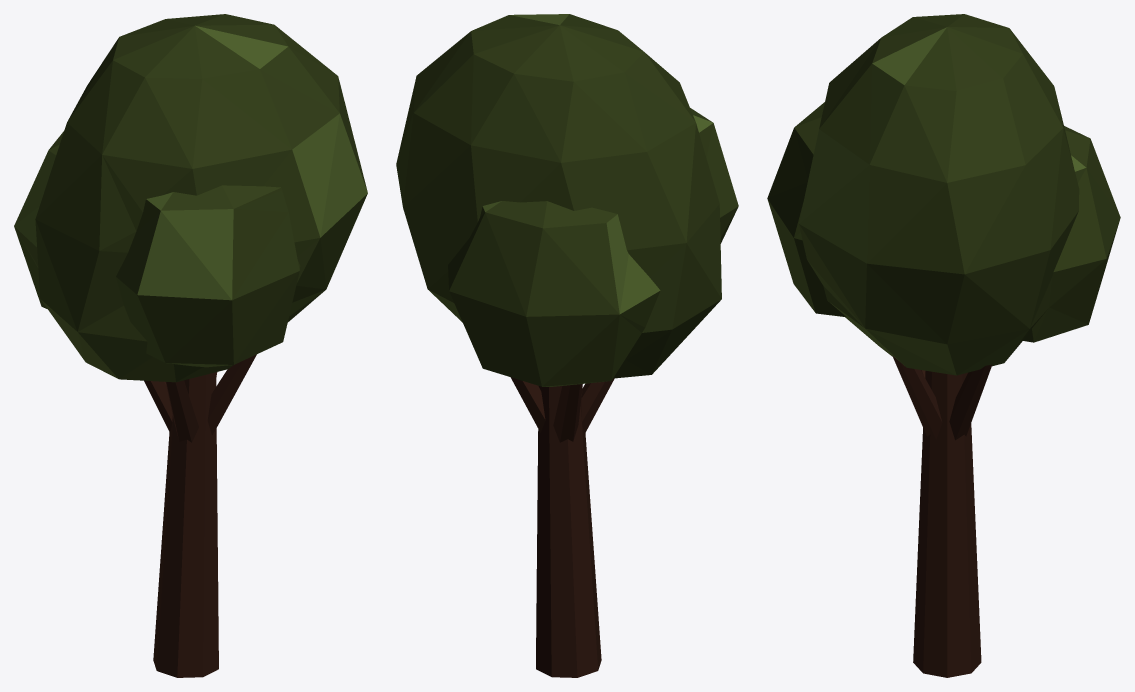
File: Tree_Oak_02.fbx
3 renders of one model, left to right at view 1: azimuth 30°, elevation 25°; view 2: azimuth 150°, elevation 25°; view 3: azimuth 270°, elevation 25°, orthographic.
Visible parts, largest first — view 1: Tree_Oak_02_Foliage, Tree_Oak_02_Trunk; view 2: Tree_Oak_02_Foliage, Tree_Oak_02_Trunk; view 3: Tree_Oak_02_Foliage, Tree_Oak_02_Trunk.
Part boxes in pixels (box(x1,y1,x2,y2)): Tree_Oak_02_Foliage: box(14, 14, 367, 382); Tree_Oak_02_Trunk: box(144, 354, 256, 677); Tree_Oak_02_Foliage: box(396, 14, 738, 386); Tree_Oak_02_Trunk: box(510, 377, 614, 677); Tree_Oak_02_Foliage: box(767, 14, 1120, 375); Tree_Oak_02_Trunk: box(892, 356, 991, 677).
Bounding box in the file's own units: 2.83 × 5.79 × 2.9.
1 material, 1 textured.
